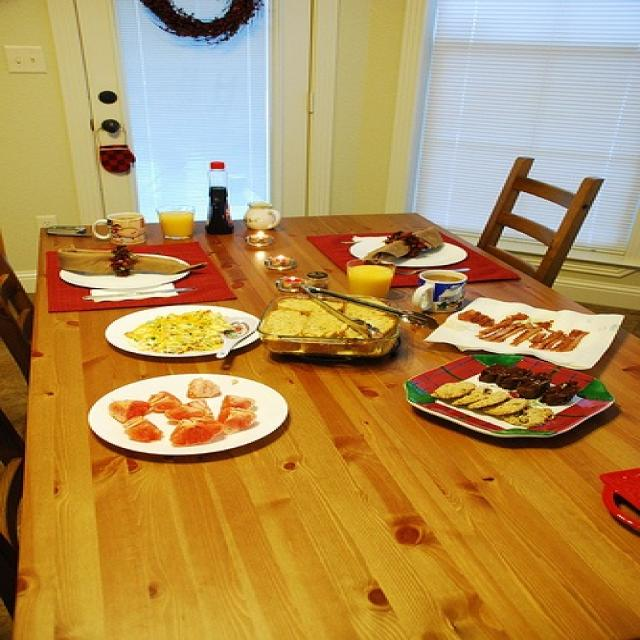bottle: (197, 160, 228, 236)
chair: (479, 156, 607, 284), (0, 411, 25, 598), (0, 244, 36, 367)
diningtable: (25, 206, 638, 639)
